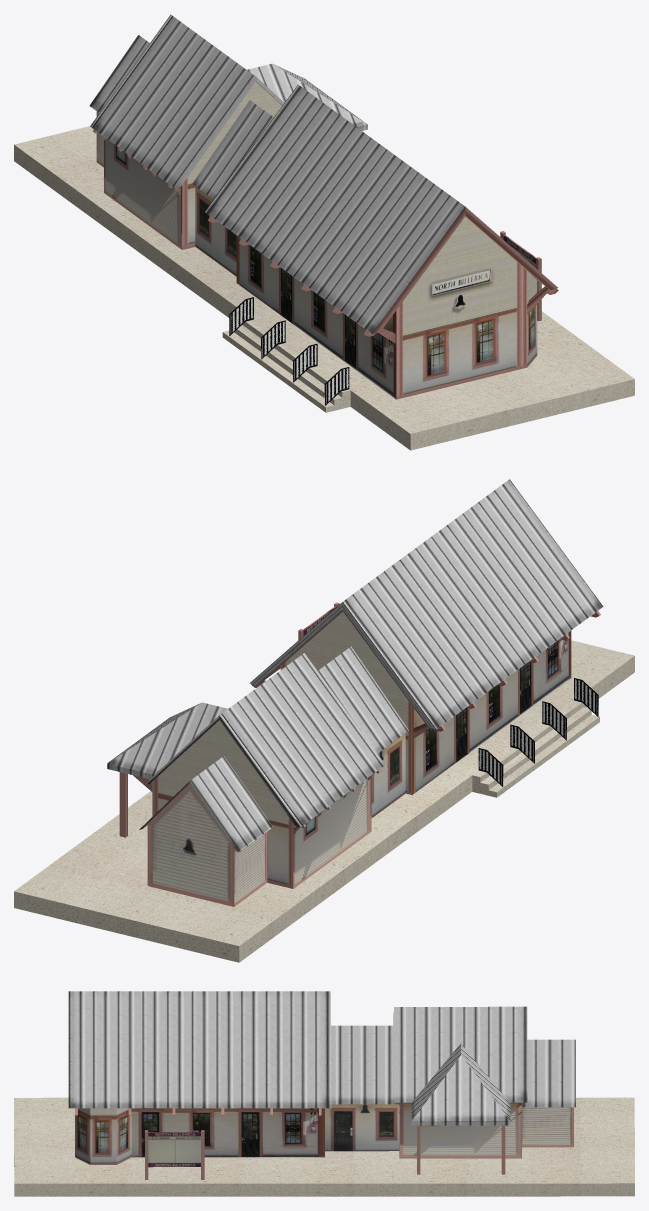
Rendered from station.obj.
The picture shows the model from 3 angles, top to bottom: view 1: azimuth 30°, elevation 25°; view 2: azimuth 150°, elevation 25°; view 3: azimuth 270°, elevation 25°; orthographic projection. The views are drawn at different scales.
Parts seen in each view (by area): view 1: g0; view 2: g0; view 3: g0.
Part boxes in pixels (x1,y1,x2,y2): g0: (14,14,634,450); g0: (14,479,634,962); g0: (14,991,634,1196).
Bounding box in the file's own units: 486 × 365 × 1334.
Materials: 21 (21 with a texture image).
